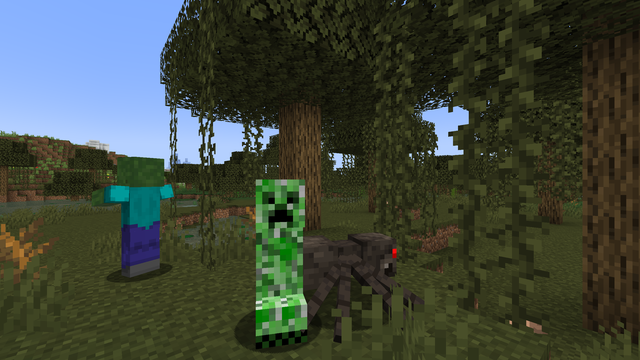araignees: (319, 221, 416, 344)
creepers: (242, 171, 316, 348)
zombies: (118, 159, 163, 280)
